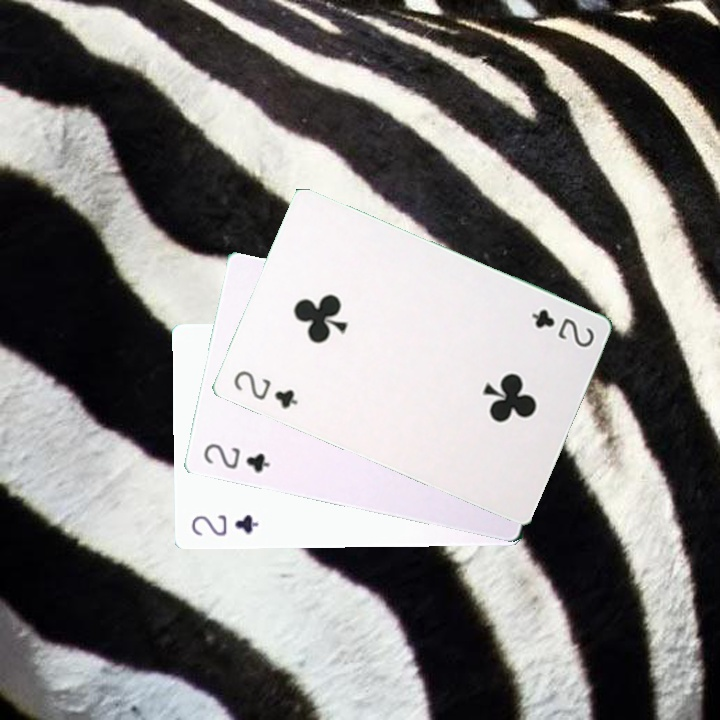2c: (229, 366, 301, 411), (527, 305, 597, 350), (199, 439, 273, 476), (188, 511, 262, 539)
